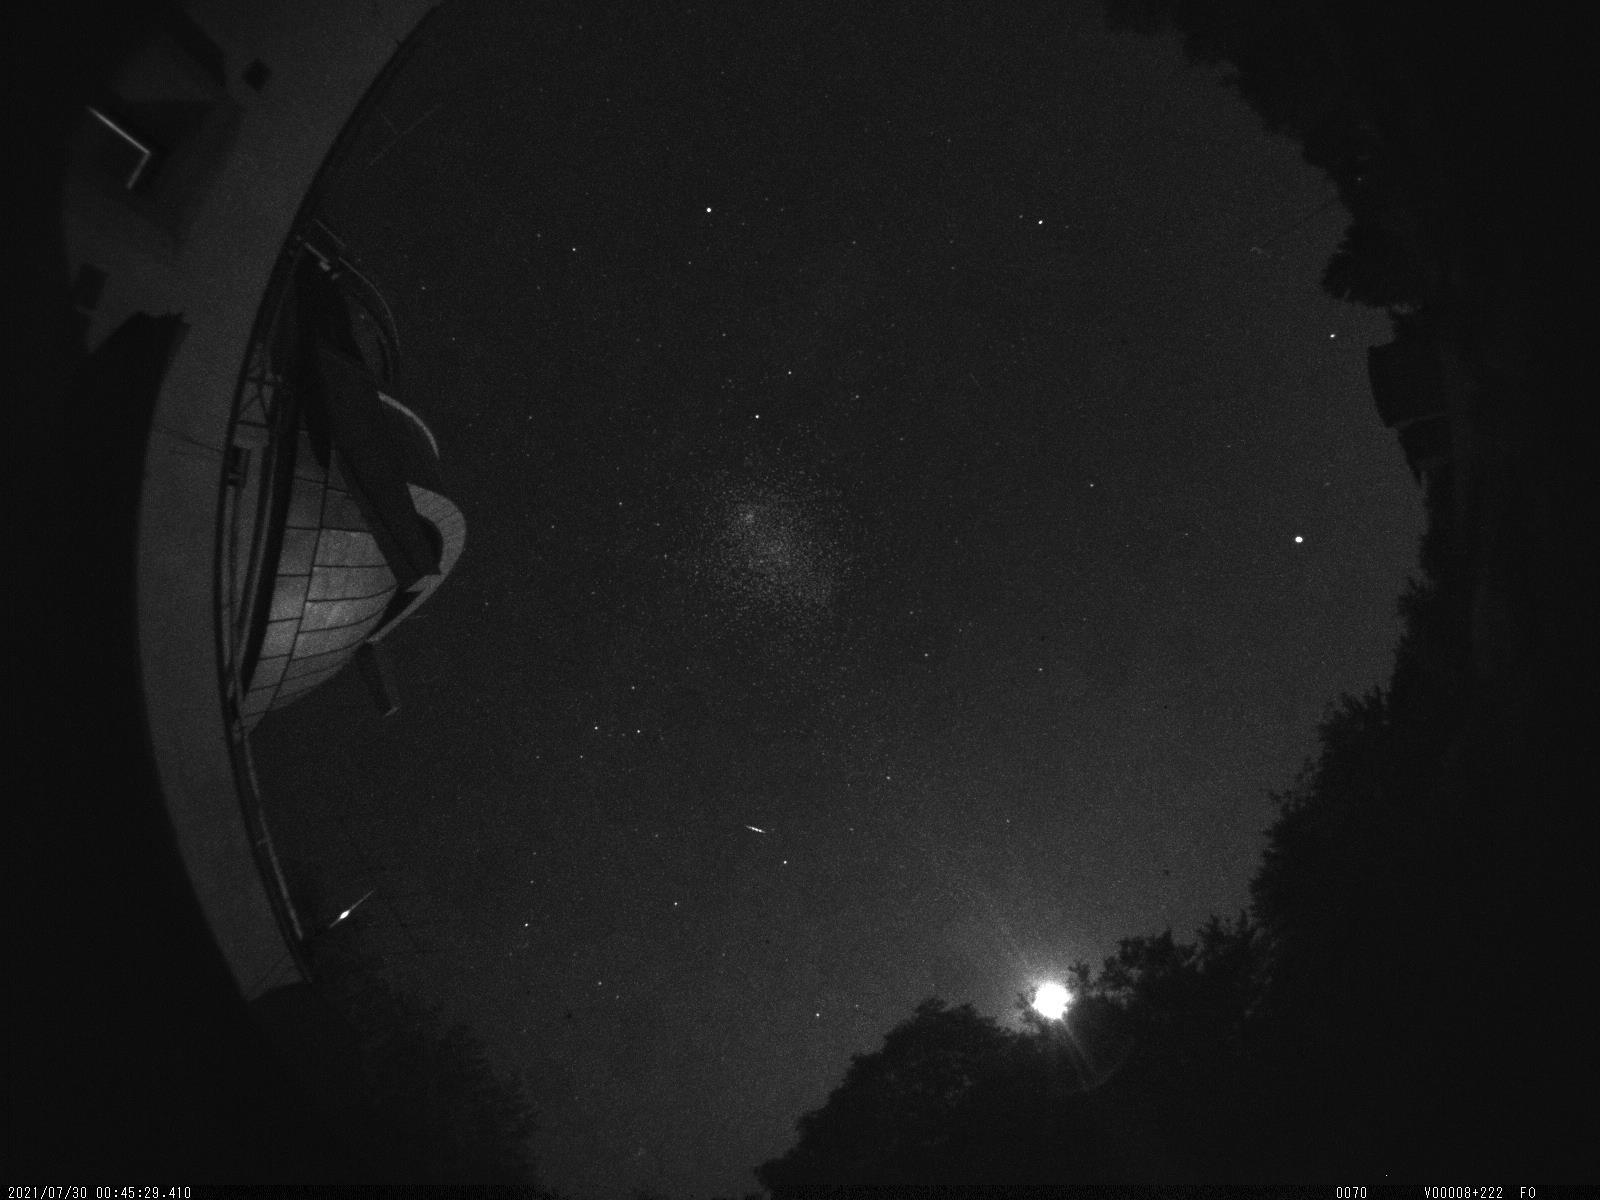Meteor: (737, 811, 772, 842)
